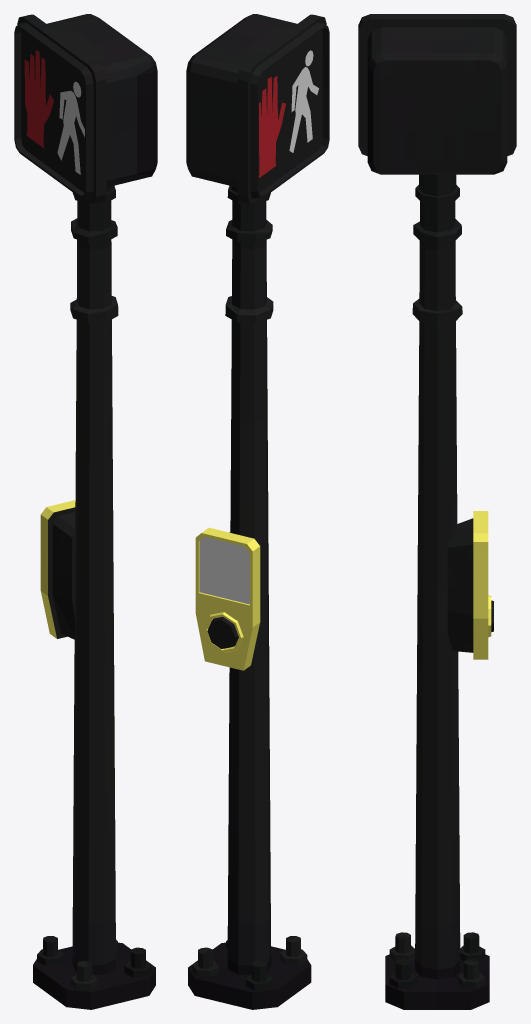
Rendered from LightPole09.fbx.
The picture shows the model from 3 angles, left to right: view 1: azimuth 30°, elevation 25°; view 2: azimuth 150°, elevation 25°; view 3: azimuth 270°, elevation 25°; orthographic projection.
Visible parts, largest first — view 1: SM_City_LightPole_03.mo; view 2: SM_City_LightPole_03.mo; view 3: SM_City_LightPole_03.mo.
Part boxes in pixels (left/top/right/bottom): SM_City_LightPole_03.mo: left=14, top=14, right=157, bottom=1009; SM_City_LightPole_03.mo: left=186, top=14, right=329, bottom=1009; SM_City_LightPole_03.mo: left=358, top=14, right=516, bottom=1009.
Size of the model in its own units: 34.6 by 350 by 52.61.
